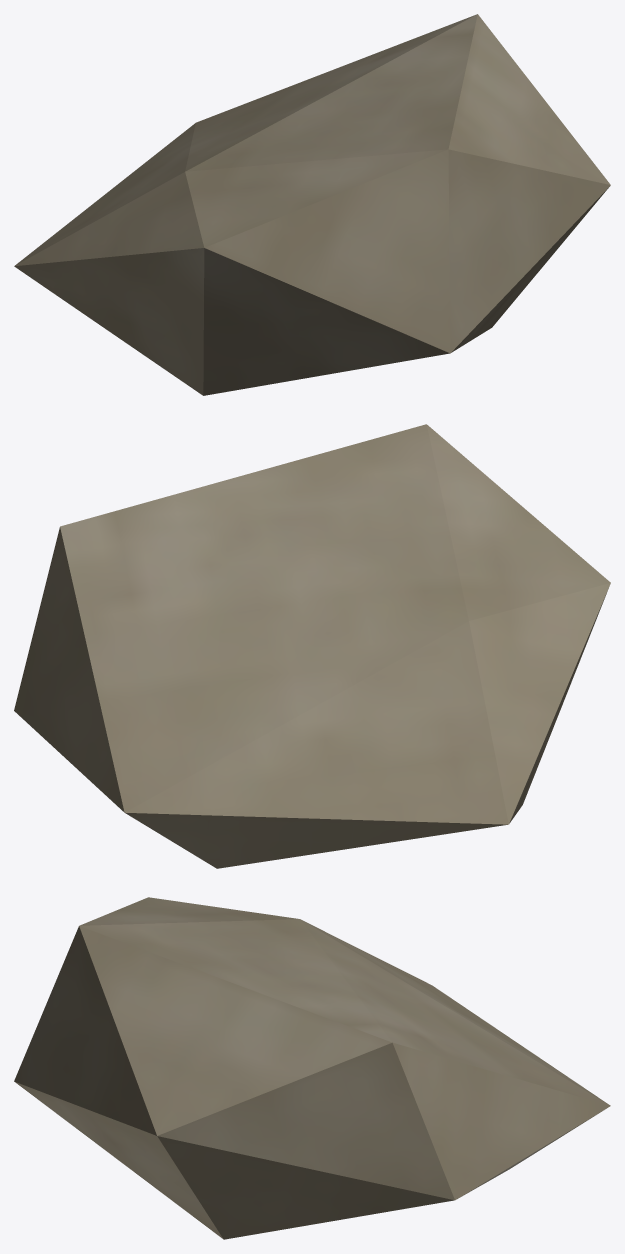
Rendered from rock_circular2_fbx.fbx.
3 renders of one model, top to bottom at view 1: azimuth 30°, elevation 25°; view 2: azimuth 150°, elevation 25°; view 3: azimuth 270°, elevation 25°, orthographic. The views are drawn at different scales.
Visible parts, largest first — view 1: rock_circular2; view 2: rock_circular2; view 3: rock_circular2.
Boxes of the visible parts, x1=… form: rock_circular2: x1=14, y1=14, x2=610, y2=395; rock_circular2: x1=14, y1=424, x2=610, y2=868; rock_circular2: x1=14, y1=897, x2=610, y2=1239.
Size of the model in its own units: 169 by 92.43 by 193.
1 material, 1 textured.
